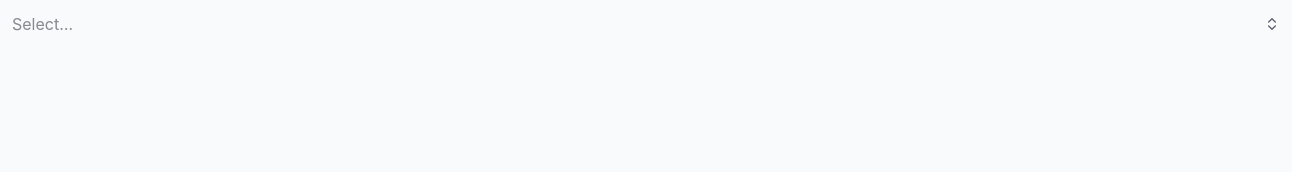
Combobox › opens on focus and filters as you type
Click the dropdown at (136, 24), box [12,12,260,36]
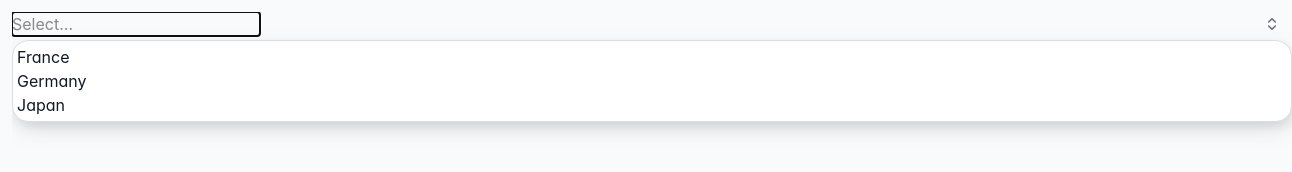
Now the list is shown, box [12,40,1291,122]
Now the number of options is 3, box [17,47,70,67]; [17,71,87,91]; [17,95,65,115]
Type "ja" into the dropdown at (136, 24), box [12,12,260,36]
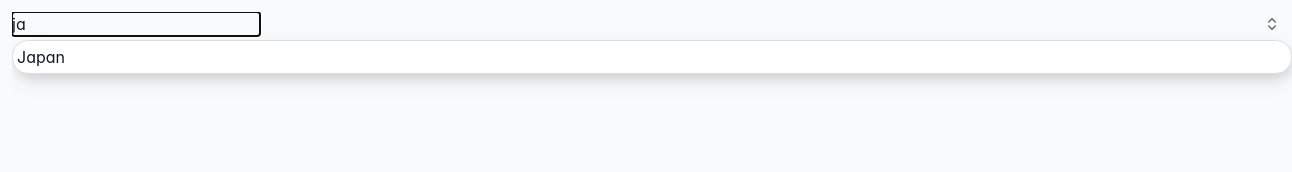
Now the number of options is 1, box [17,47,65,67]
